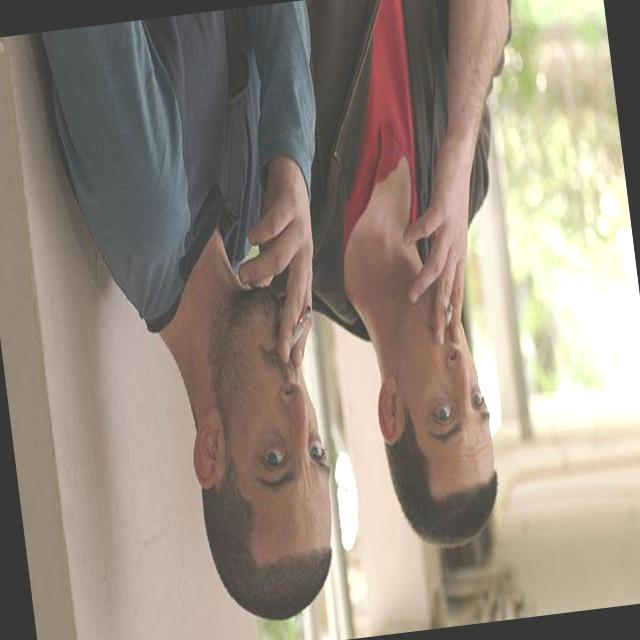cigarette: (256, 296, 322, 366), (422, 281, 470, 348)
